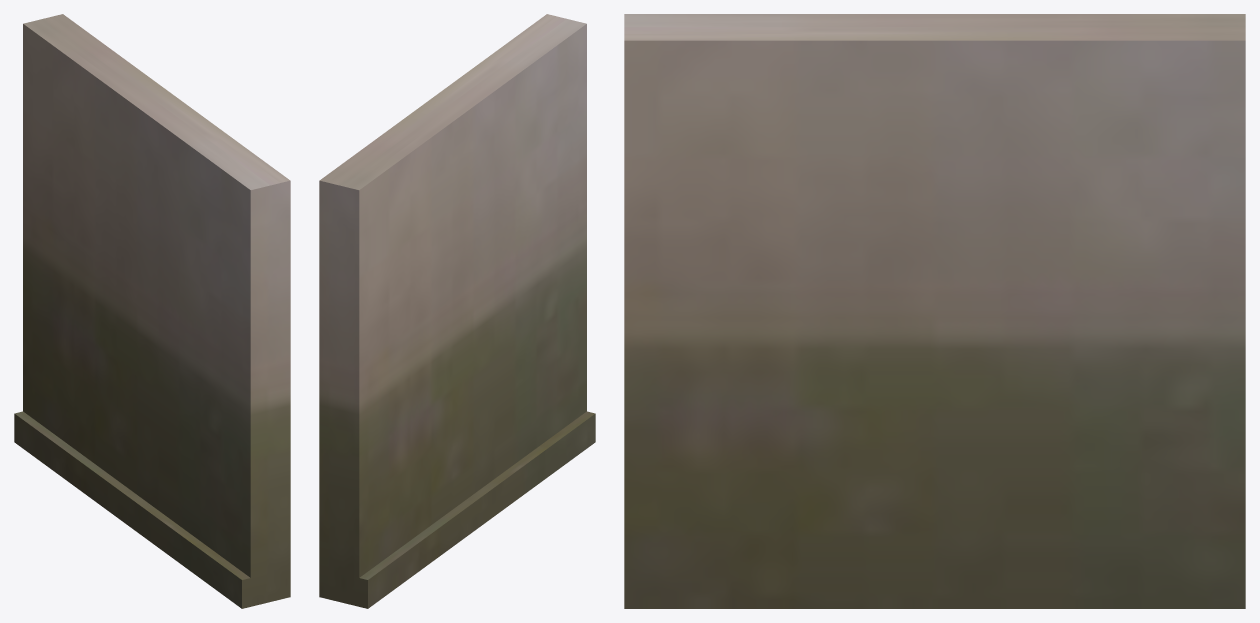
The model's file is wall1.fbx.
3 renders of one model, left to right at view 1: azimuth 30°, elevation 25°; view 2: azimuth 150°, elevation 25°; view 3: azimuth 270°, elevation 25°, orthographic. The views are drawn at different scales.
Visible parts, largest first — view 1: wall1; view 2: wall1; view 3: wall1.
Part boxes in pixels (<box>): wall1: <box>14,14,290,608</box>; wall1: <box>319,14,595,608</box>; wall1: <box>624,14,1245,608</box>.
Bounding box in the file's own units: 24.6 × 202 × 200.
